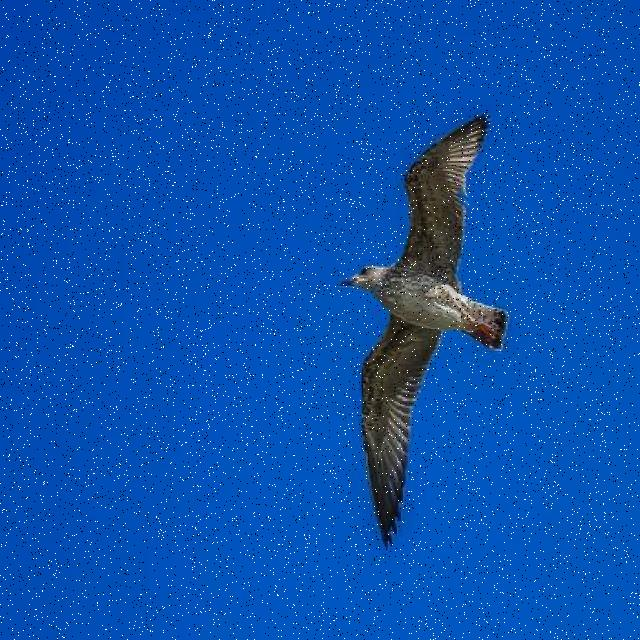bird: (341, 115, 508, 554)
